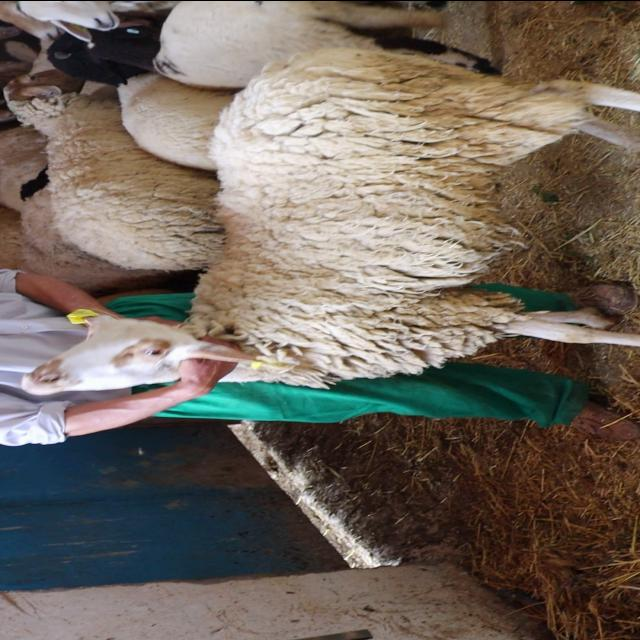Score_4: (22, 47, 639, 394)
